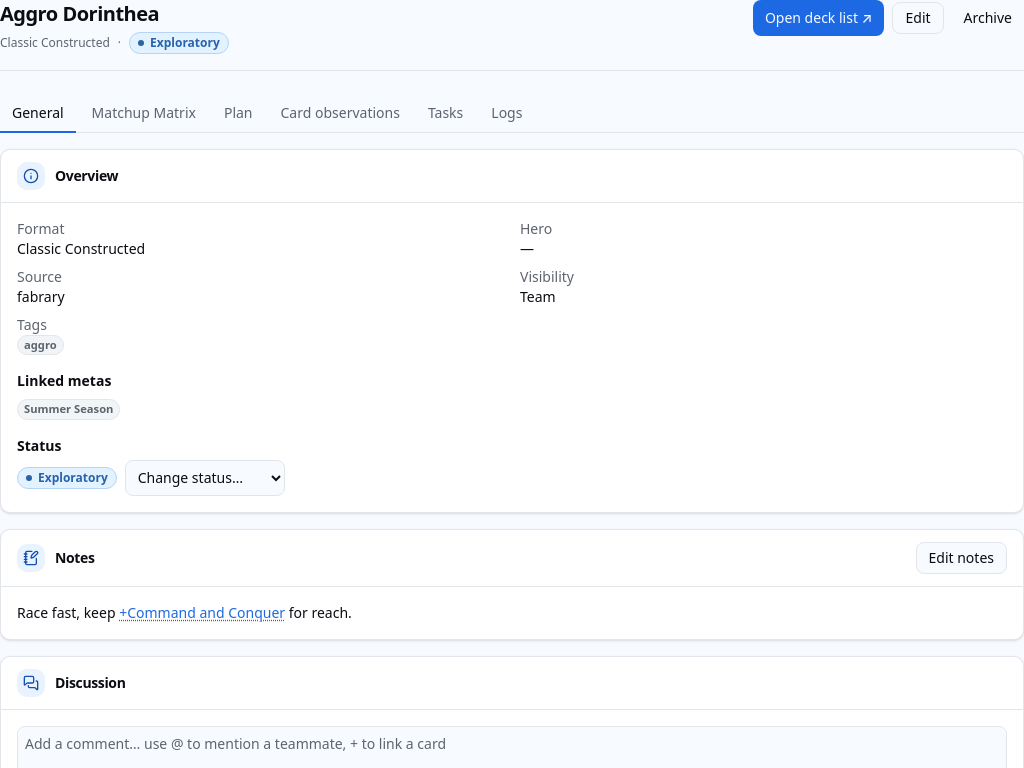
Test: DeckDetail › opens the edit form in a modal dialog
The width and height of the screenshot is (1024, 768).
Click the button "Edit" at (918, 18), box [892,2,944,34]
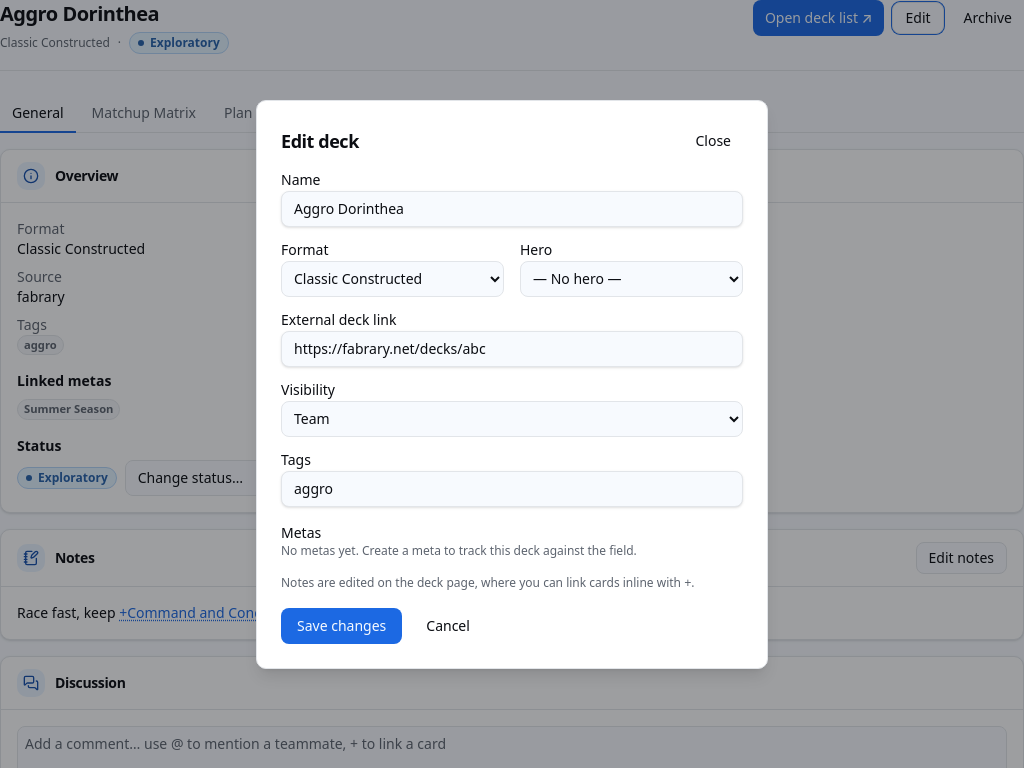
Expected: the button "Save changes" is shown, [281,608,402,644]
